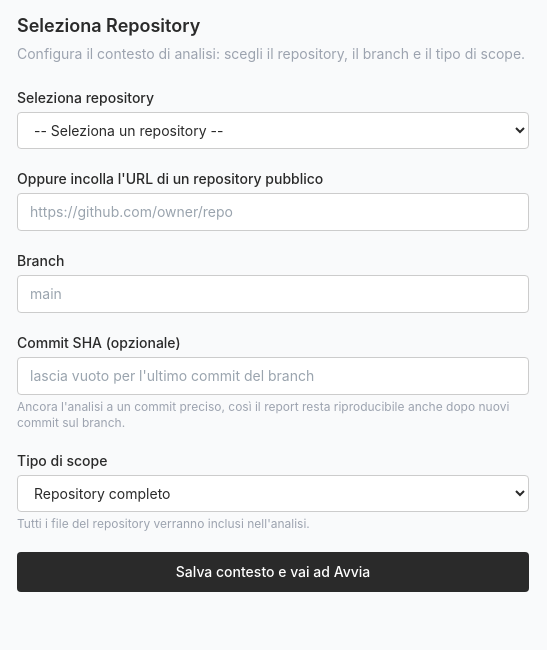
Scenario: SelectPage › blocca l'invio se non e' stato scelto alcun repository
Expected: the dropdown labelled "Seleziona repository" is shown, [17,112,529,149]
Click the button "Salva contesto e vai ad Avvia".
click(273, 572)  # box [17,552,529,592]
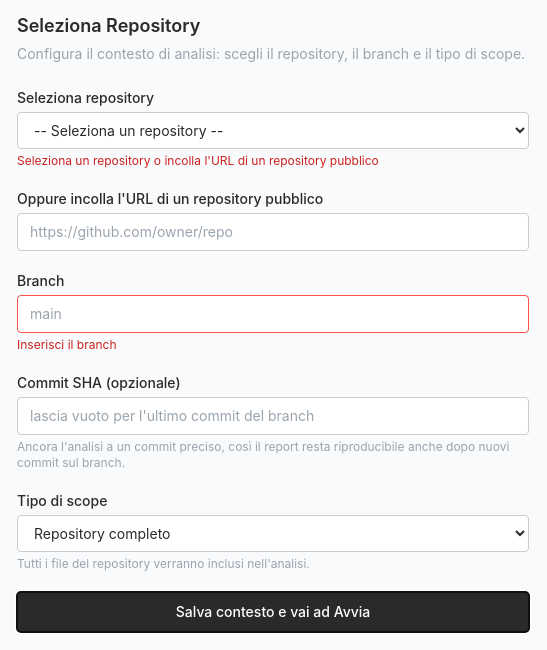
Expected: the text "Seleziona un repository o incolla l'URL" is shown, [17,153,379,168]
